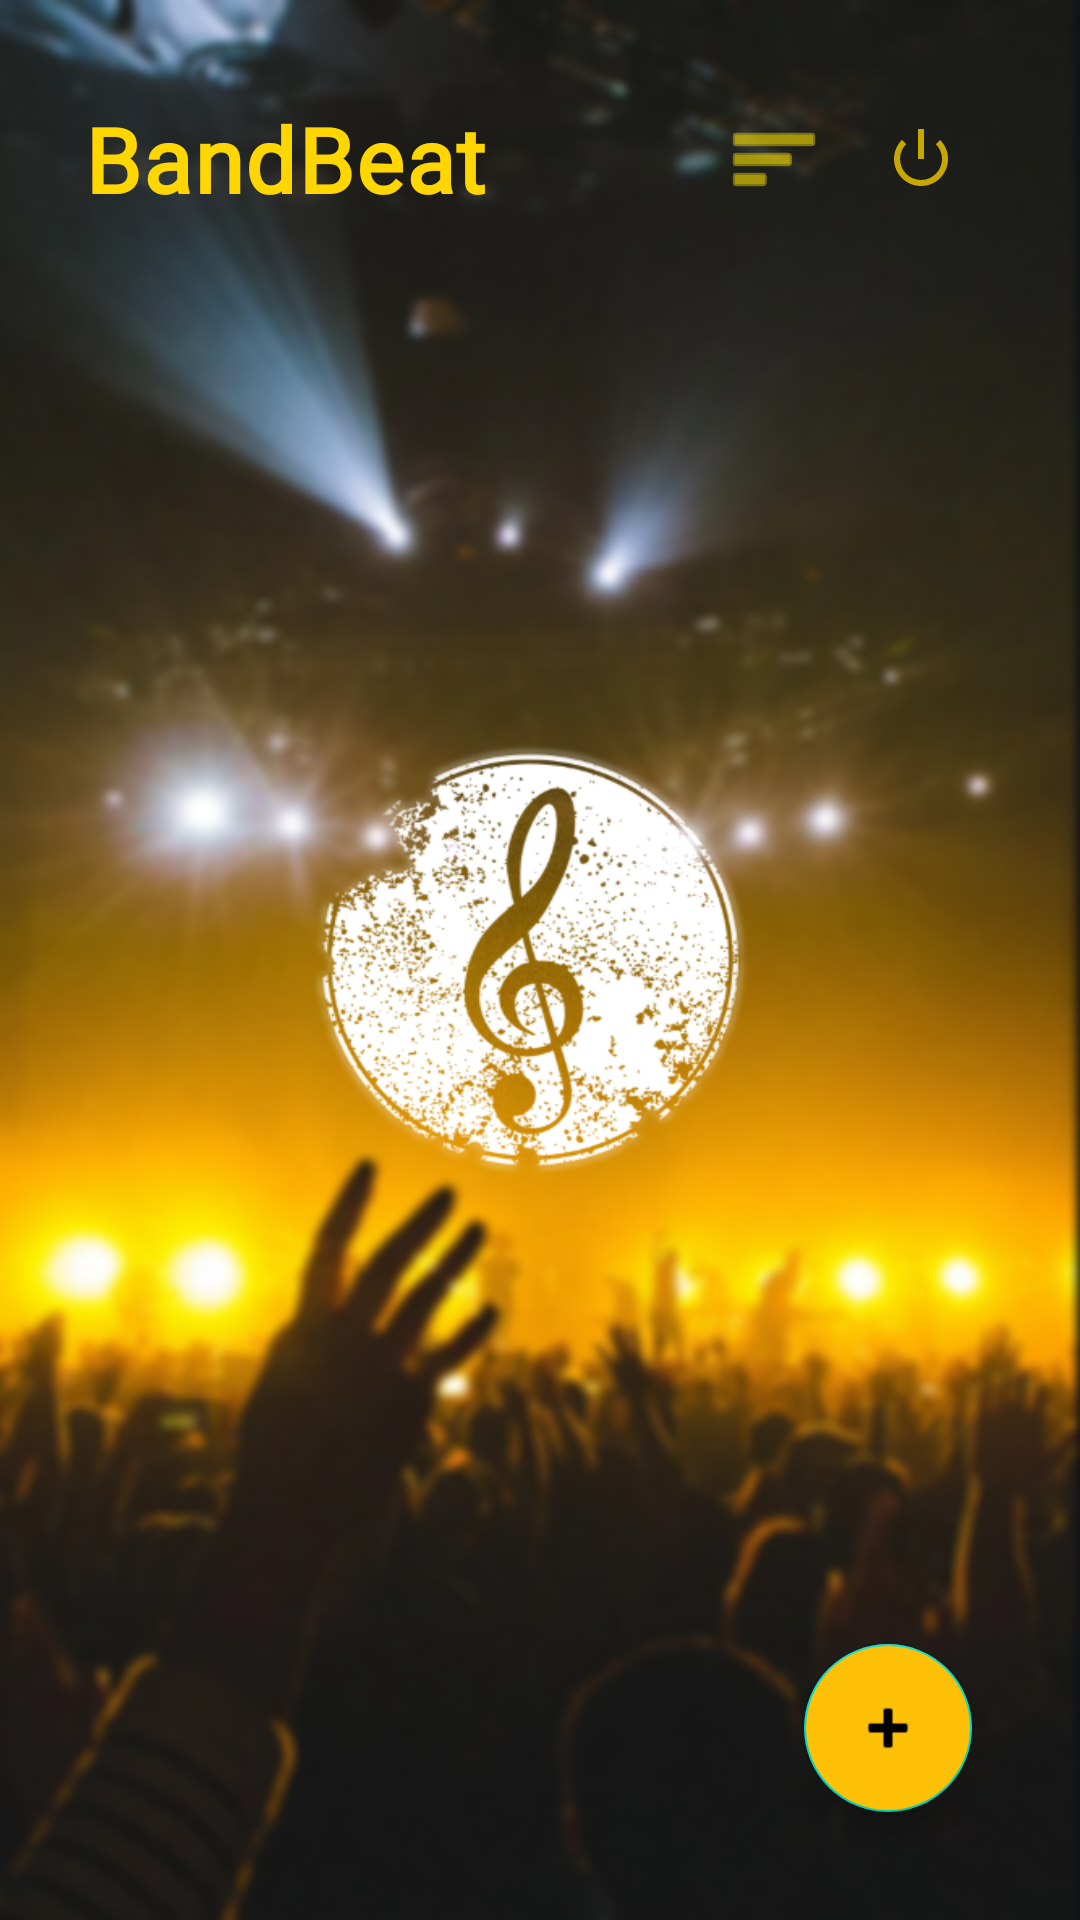

Where to tap for icons on this 1080×1920 app screen, as point (x, y):
Add Event: point (888, 1728)
